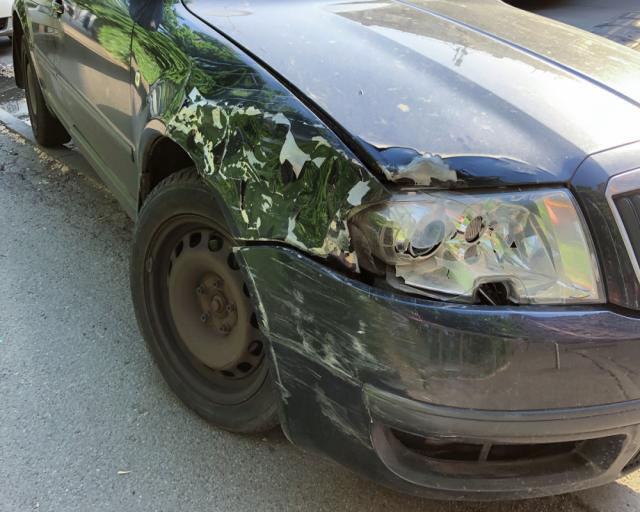dent: (168, 62, 374, 251)
lamp broken: (361, 184, 607, 306)
scratch: (234, 251, 422, 453)
